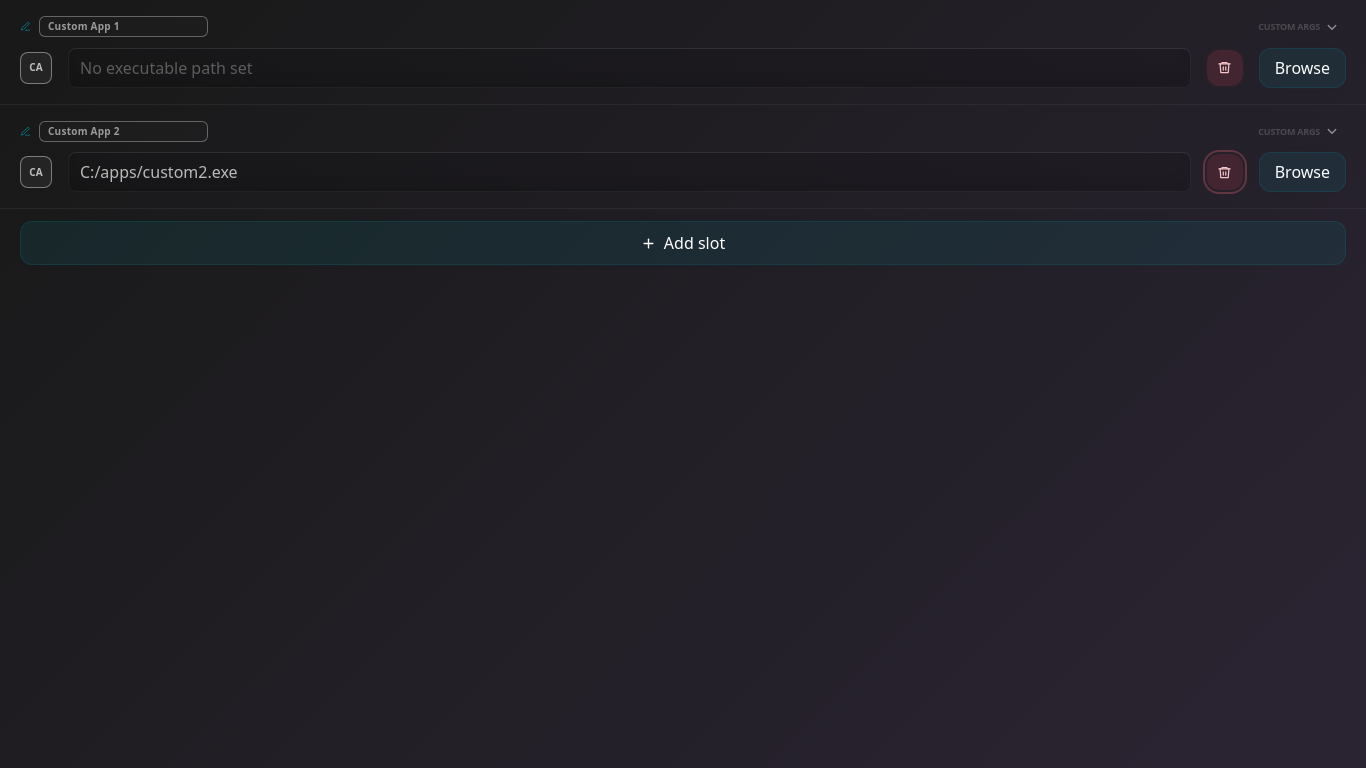
AppsSection: removing one of two custom apps from the keyboard (#1007) › removing the highest-numbered slot (not the one the fix special-cases) still keeps focus off <body>, through the dialog
Click the button named "Remove Custom App 2" at (1225, 172), box left=1207, top=154, right=1243, bottom=190
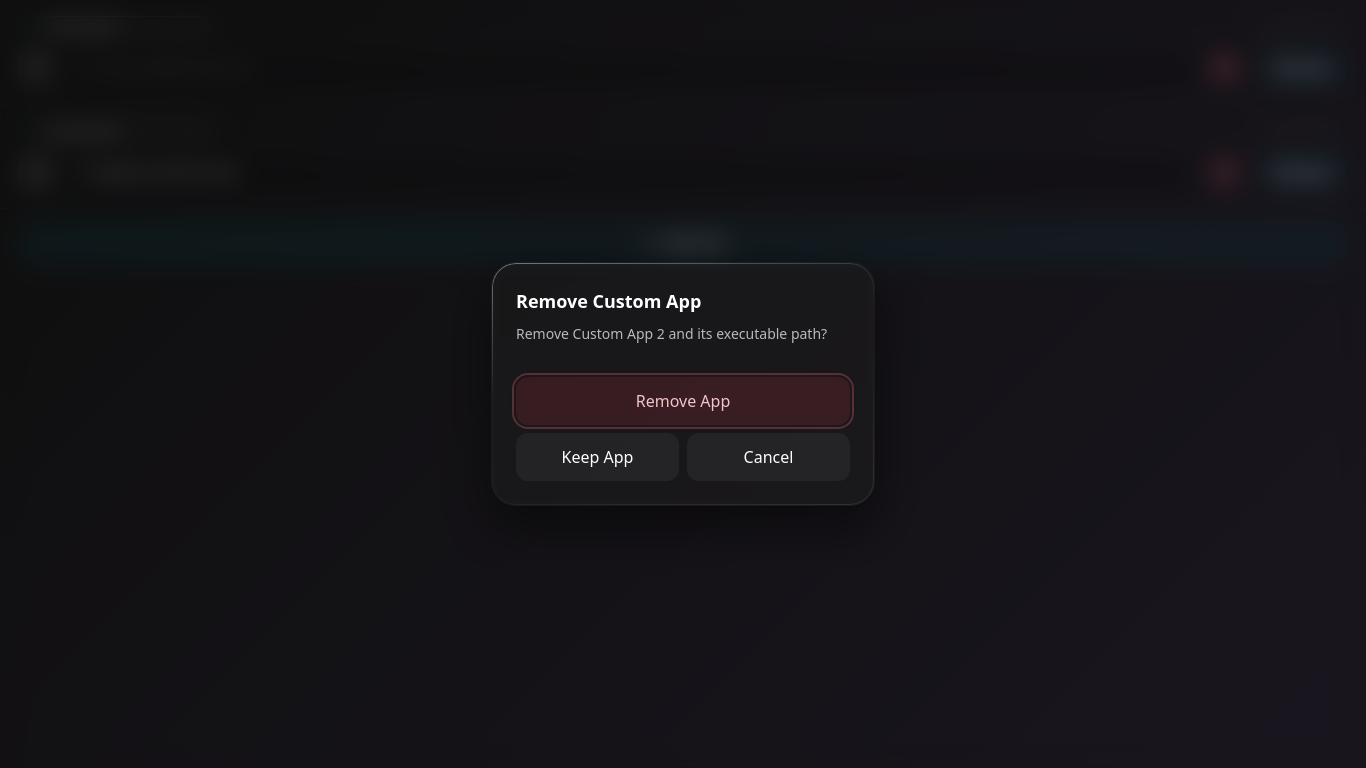
Check: the dialog is shown, box left=491, top=262, right=875, bottom=506
Click the button "Remove App" at (683, 401), box left=516, top=377, right=850, bottom=425
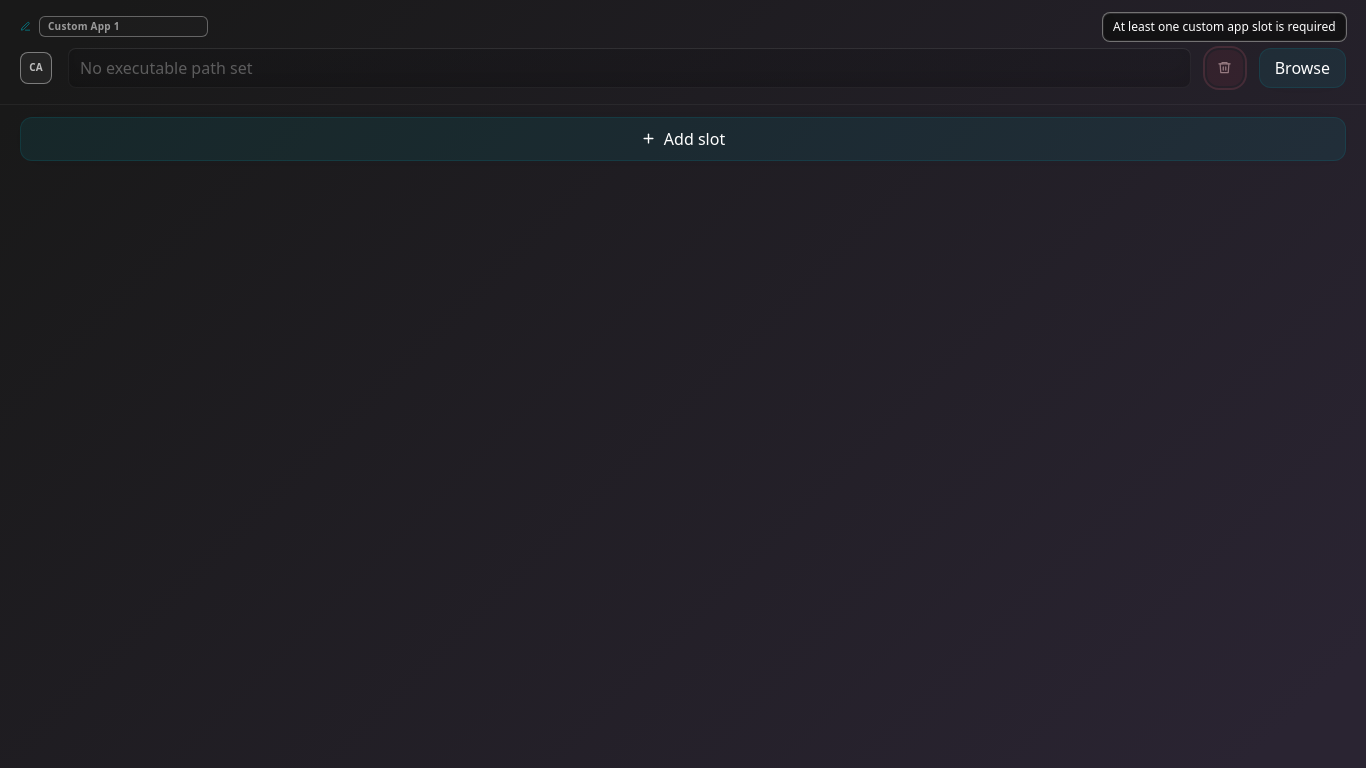
Check: the dialog is gone
